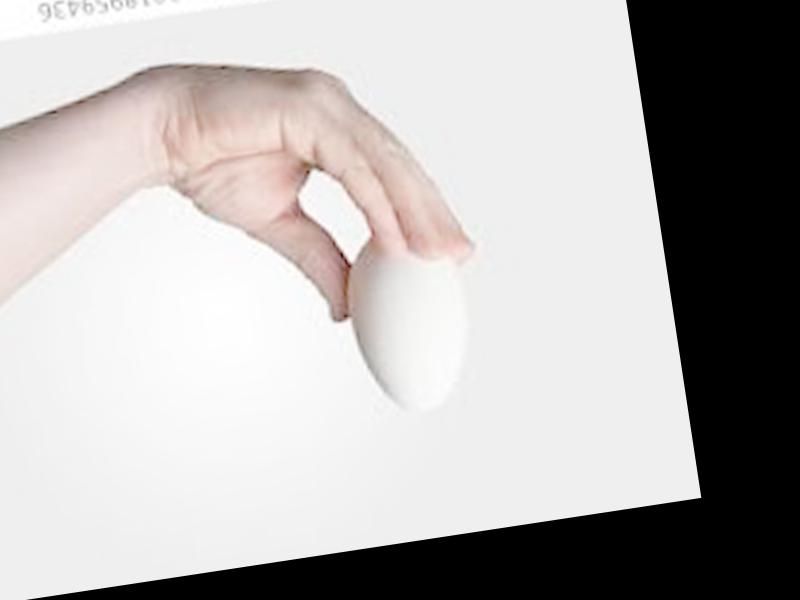Eggs: (338, 221, 485, 423)
